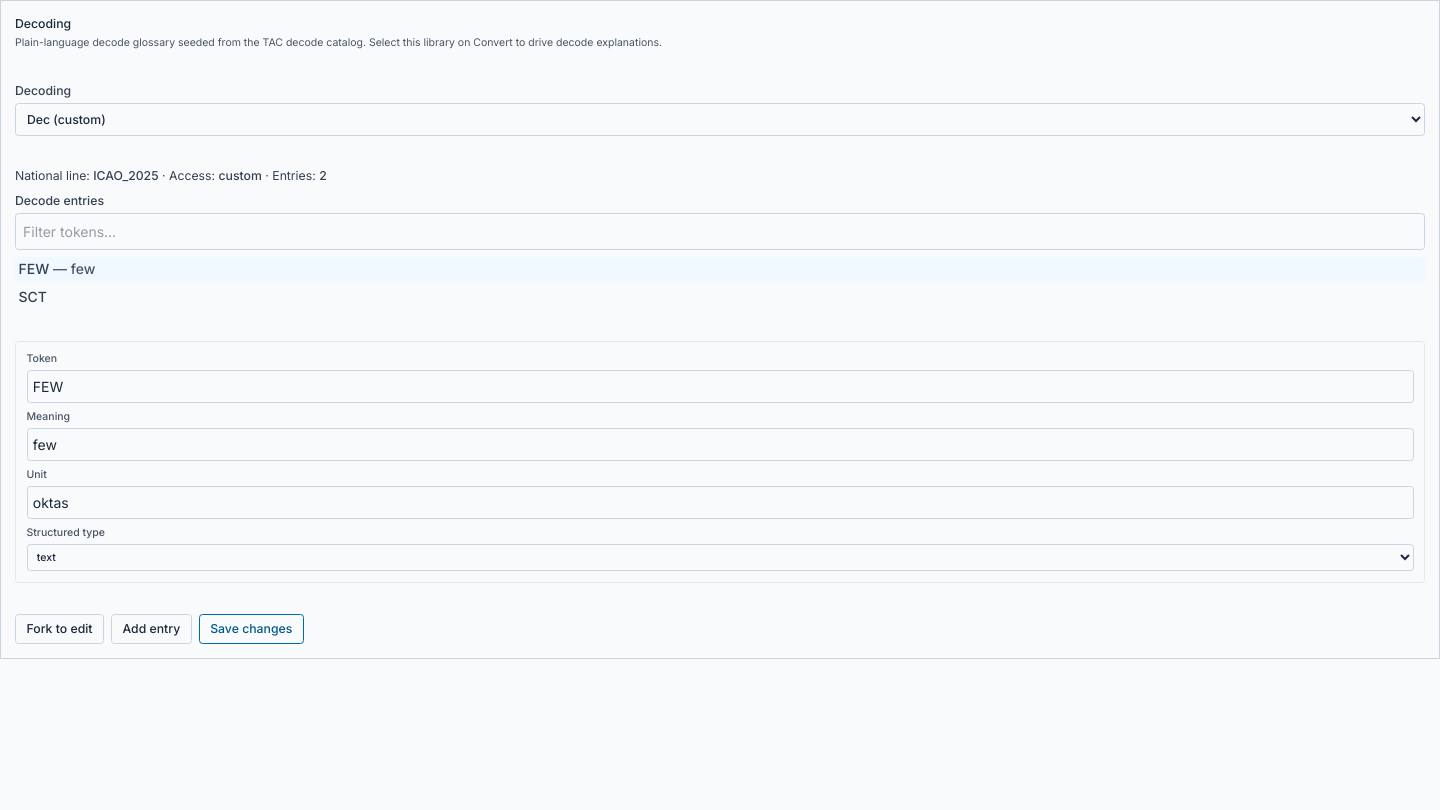
Scenario: EVWB P1–P4 coverage fills › covers decoding entry select/rename and save/fork failures
Expected: the button with test id "decoding-entry-FEW" is shown, x1=15 y1=256 x2=1425 y2=281
Click the button with test id "decoding-entry-SCT": (33, 297) x1=15 y1=284 x2=1425 y2=309
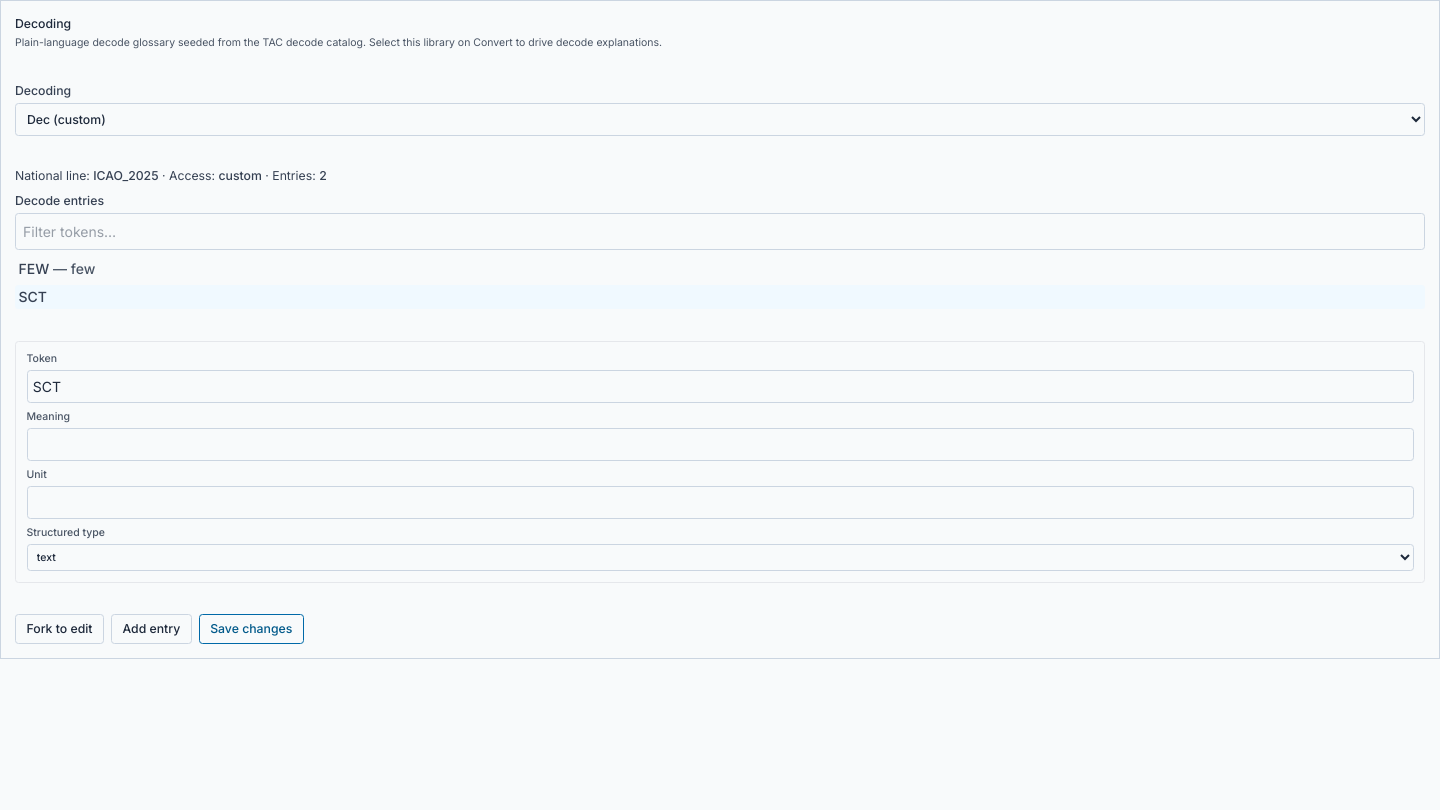
Now the field with test id "decoding-entry-token" holds "SCT"
Replace the text in the field with test id "decoding-entry-token" with "sct2": (720, 386) x1=26 y1=370 x2=1414 y2=403
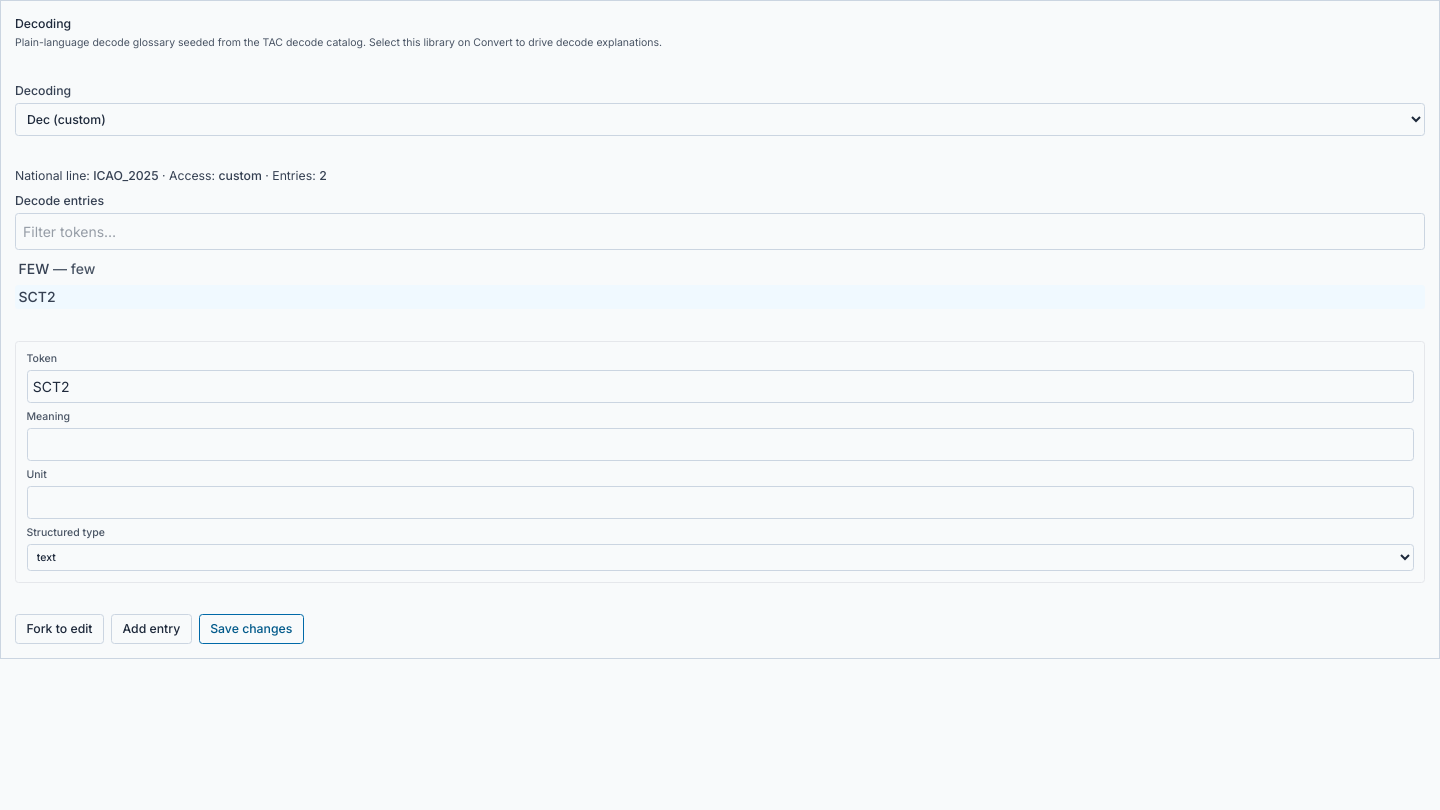
Click the button with test id "decoding-rules-fork": (60, 629) x1=15 y1=614 x2=104 y2=644
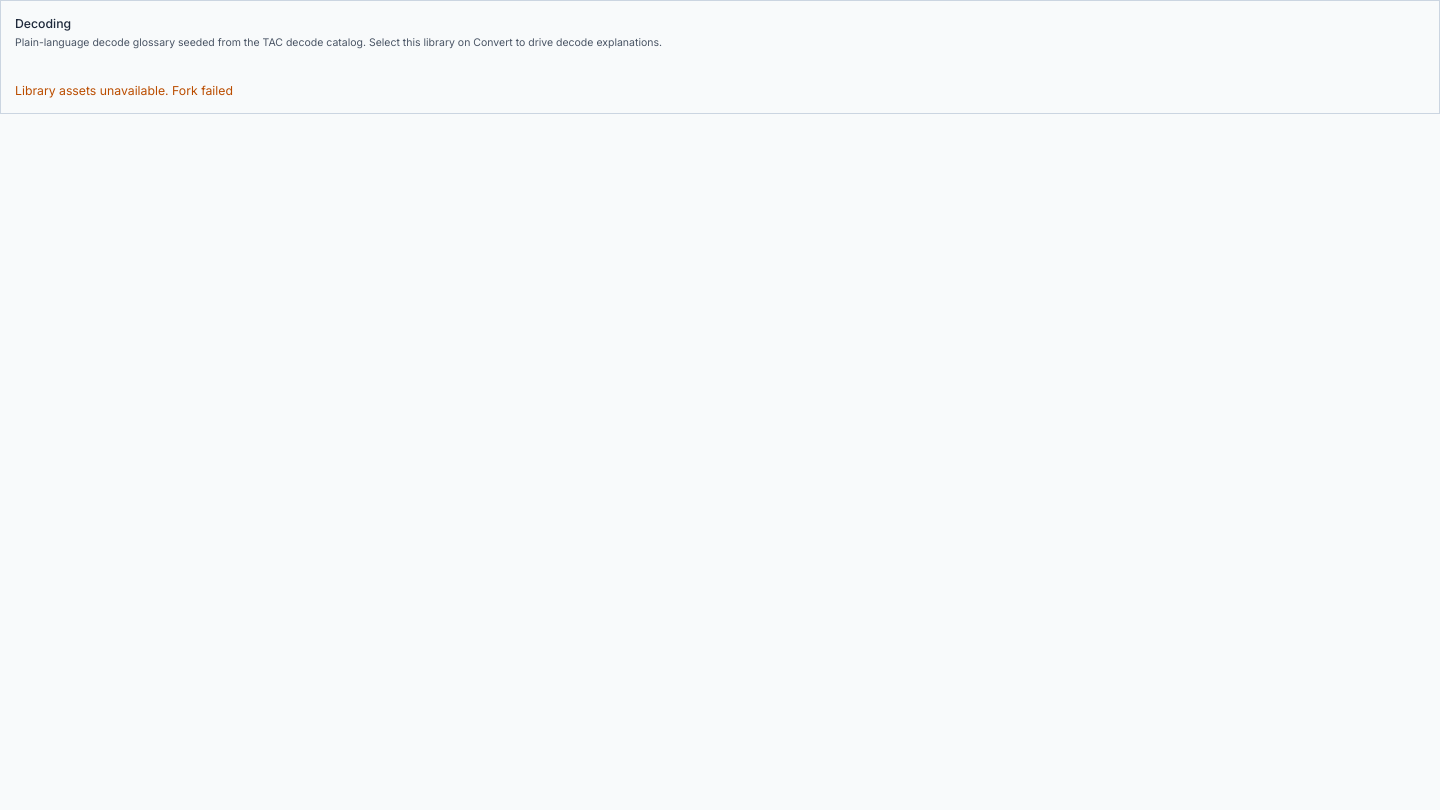
Now the text with test id "decoding-panel-error" shows "Fork failed", box x1=172 y1=82 x2=233 y2=98
